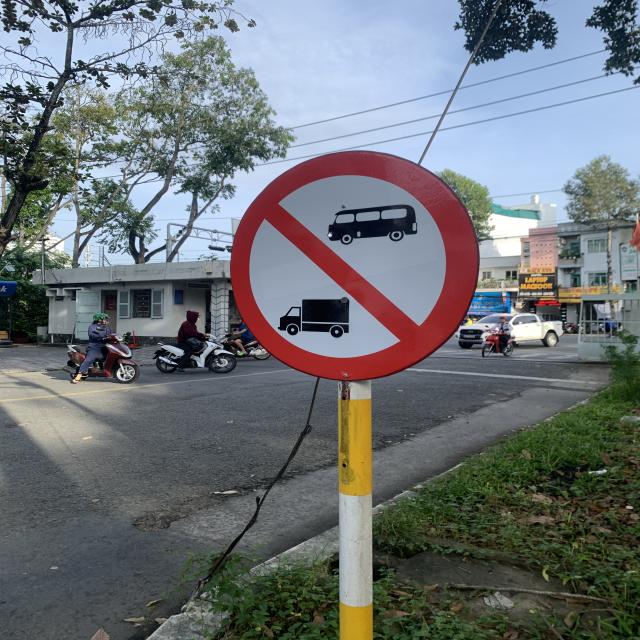Cam_XeTai_XeKhach: (236, 145, 474, 378)
